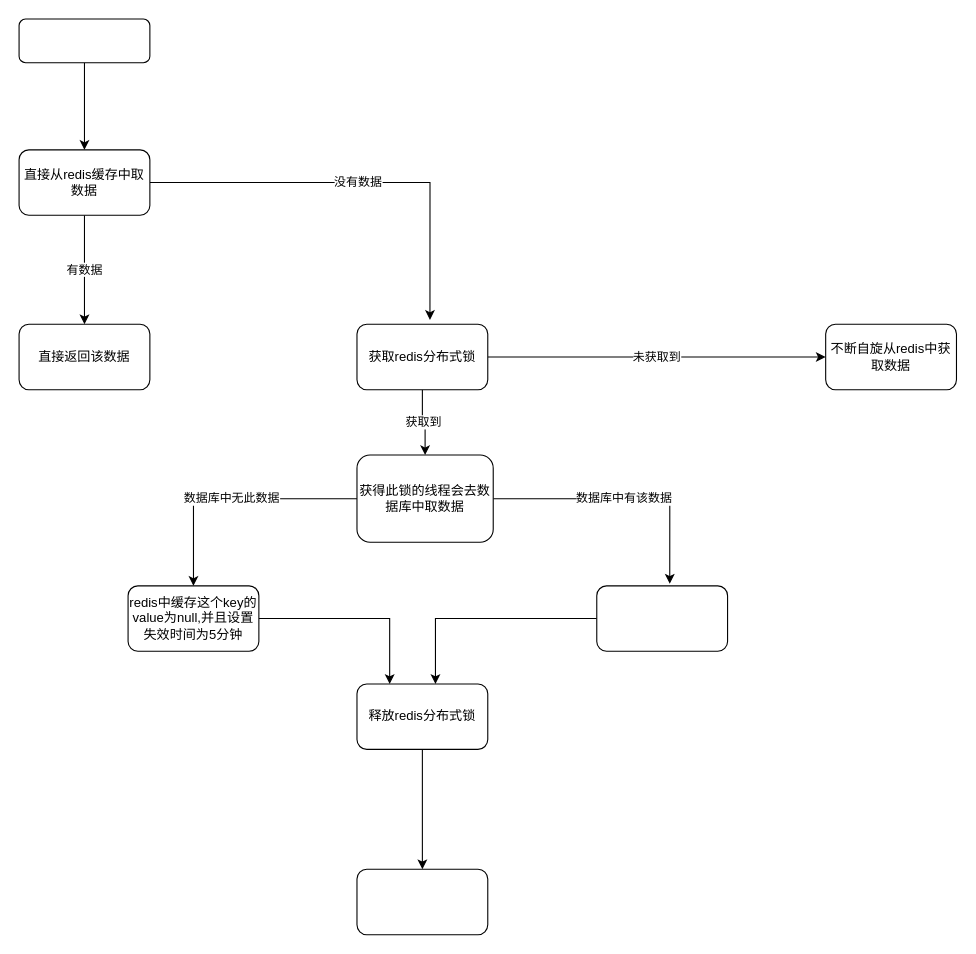
This 976x954 diagram has some shape labels left out. The centre of each missing label's shape, as x and y in pixels:
get接口: [84,40]
将数据缓存到 redis 中，设置失效时间为12小时: [662,618]
返回该数据: [422,901]
